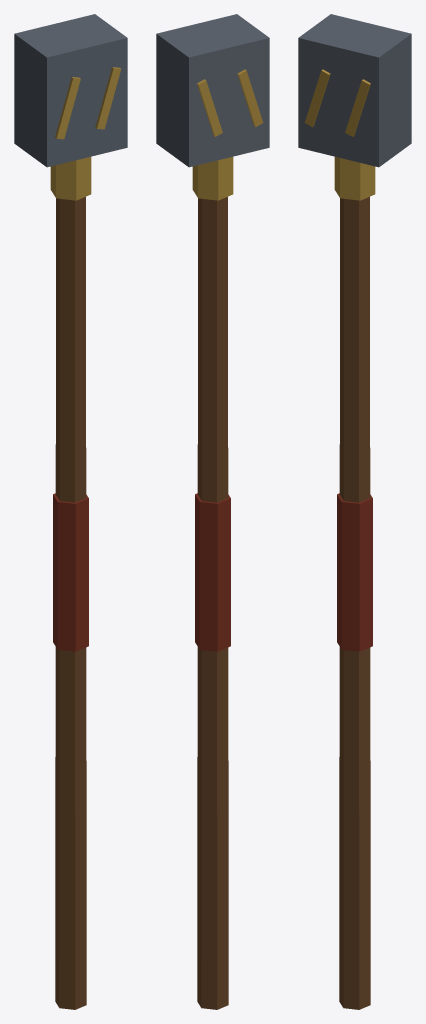
Rendered from weapon_staff.glb.
The picture shows the model from 3 angles, left to right: view 1: azimuth 30°, elevation 25°; view 2: azimuth 210°, elevation 25°; view 3: azimuth 330°, elevation 25°; orthographic projection.
Parts seen in each view (by area): view 1: dwarf_weapon_staff; view 2: dwarf_weapon_staff; view 3: dwarf_weapon_staff.
Boxes of the visible parts, x1,y1,x2,y2 form: dwarf_weapon_staff: [14, 14, 127, 1009]; dwarf_weapon_staff: [156, 14, 269, 1009]; dwarf_weapon_staff: [298, 14, 411, 1009].
Bounding box in the file's own units: 0.12 × 1.37 × 0.0924.
